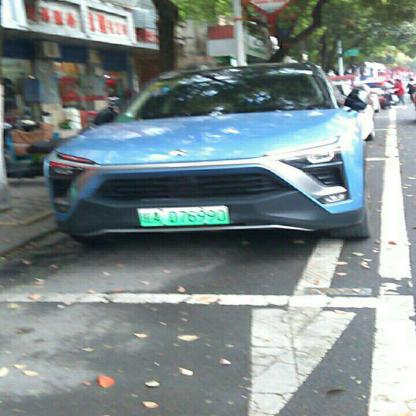lp: (134, 205, 229, 227)
